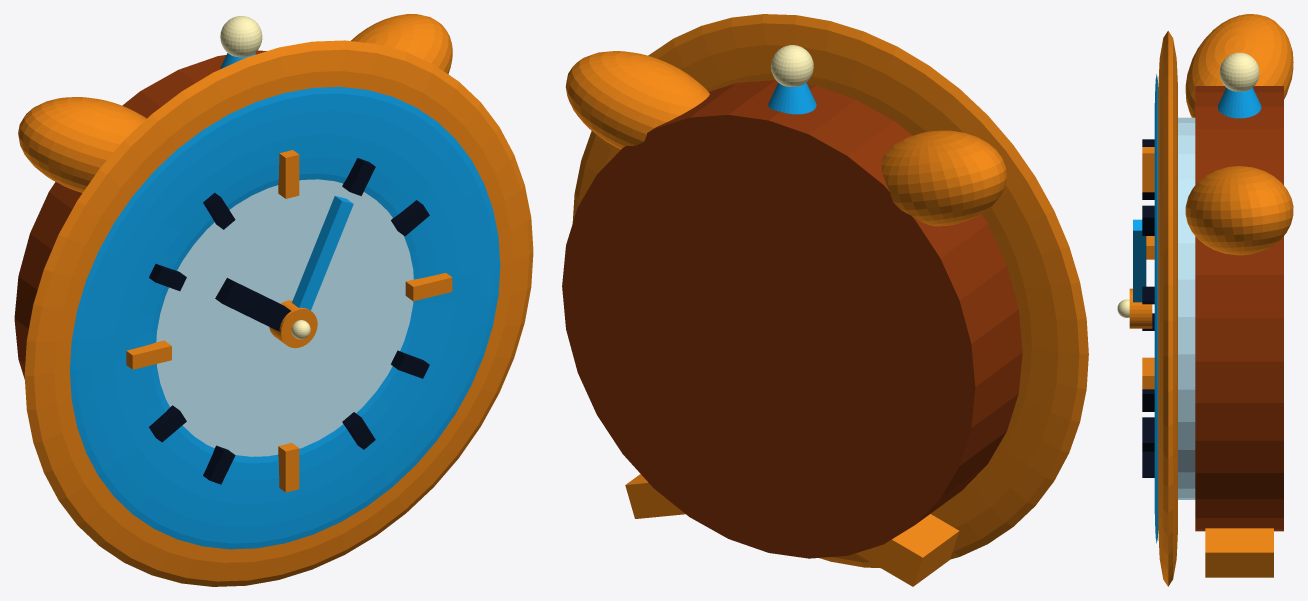
File: reloj_tiempo.obj
3 views of the same model, side by side, from view 1: azimuth 30°, elevation 25°; view 2: azimuth 150°, elevation 25°; view 3: azimuth 270°, elevation 25° (orthographic). The views are drawn at different scales.
Visible parts, largest first — view 1: Reloj_Aro_Energia, Reloj_Marco, Reloj_Esfera, Campana_Izquierda, Reloj_Cuerpo, Campana_Derecha, Manecilla_Minuto, Manecilla_Hora, Boton_Corona, Reloj_Centro, Marca_07, Marca_04 (+7 smaller); view 2: Reloj_Cuerpo, Reloj_Marco, Campana_Izquierda, Campana_Derecha, Pata_Izquierda, Boton_Corona, Pata_Derecha, Corona; view 3: Reloj_Cuerpo, Reloj_Marco, Campana_Derecha, Reloj_Esfera, Campana_Izquierda, Pata_Derecha, Reloj_Aro_Energia, Boton_Corona, Corona, Manecilla_Minuto, Reloj_Centro, Marca_01 (+6 smaller).
Part boxes in pixels (<box>): Reloj_Aro_Energia: <box>69,87,500,549</box>; Reloj_Marco: <box>24,40,533,586</box>; Reloj_Esfera: <box>156,179,413,456</box>; Campana_Izquierda: <box>18,97,146,192</box>; Reloj_Cuerpo: <box>14,50,266,379</box>; Campana_Derecha: <box>351,14,452,74</box>; Manecilla_Minuto: <box>292,196,353,310</box>; Manecilla_Hora: <box>215,278,290,331</box>; Boton_Corona: <box>220,16,262,57</box>; Reloj_Centro: <box>269,300,317,348</box>; Marca_07: <box>278,443,299,492</box>; Marca_04: <box>405,273,452,301</box>; Reloj_Cuerpo: <box>562,80,1022,558</box>; Reloj_Marco: <box>572,14,1088,567</box>; Campana_Izquierda: <box>881,130,1006,226</box>; Campana_Derecha: <box>565,51,709,149</box>; Pata_Izquierda: <box>856,514,959,586</box>; Boton_Corona: <box>771,45,813,86</box>; Pata_Derecha: <box>625,474,685,518</box>; Corona: <box>768,82,816,114</box>; Reloj_Cuerpo: <box>1195,86,1283,531</box>; Reloj_Marco: <box>1158,31,1177,586</box>; Campana_Derecha: <box>1185,166,1293,255</box>; Reloj_Esfera: <box>1178,117,1195,499</box>; Campana_Izquierda: <box>1185,14,1293,117</box>; Pata_Derecha: <box>1205,528,1273,577</box>; Reloj_Aro_Energia: <box>1154,74,1158,543</box>; Boton_Corona: <box>1219,52,1259,91</box>; Corona: <box>1218,87,1261,118</box>; Manecilla_Minuto: <box>1133,219,1146,302</box>; Reloj_Centro: <box>1129,288,1152,328</box>; Marca_01: <box>1142,147,1154,192</box>.
Size of the model in its own units: 7.8 by 7.83 by 2.46.
